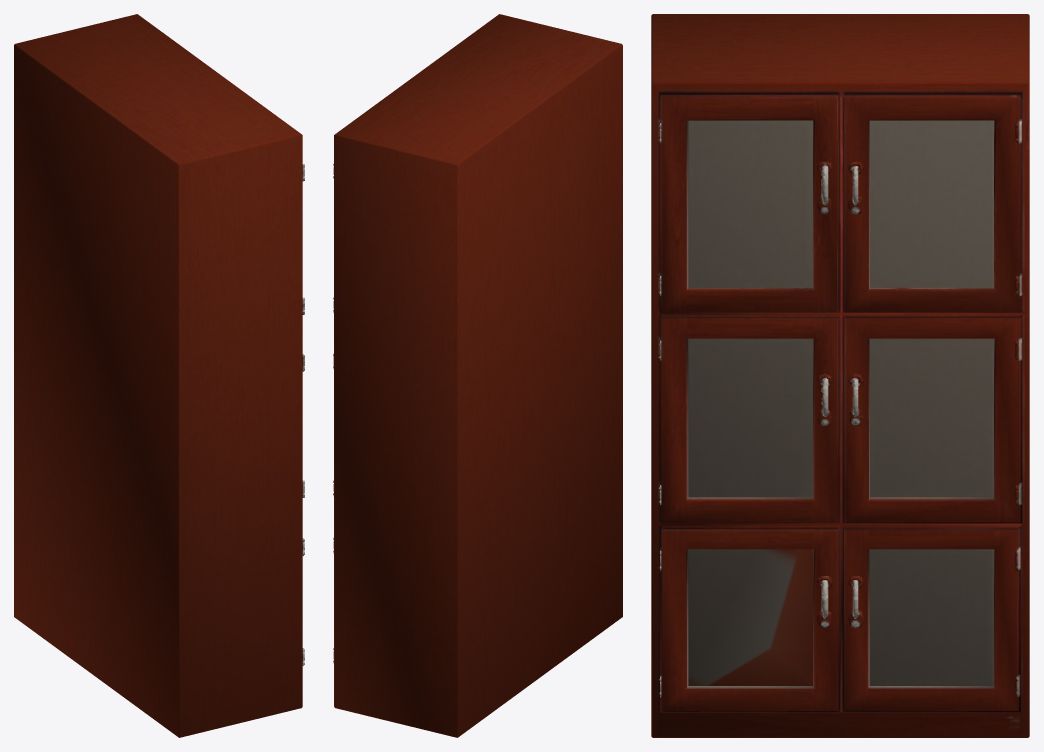
File: tu_2canh.fbx
The picture shows the model from 3 angles, left to right: view 1: azimuth 30°, elevation 25°; view 2: azimuth 150°, elevation 25°; view 3: azimuth 270°, elevation 25°; orthographic projection. The views are drawn at different scales.
Parts seen in each view (by area): view 1: tripo_node_4b7a58a5; view 2: tripo_node_4b7a58a5; view 3: tripo_node_4b7a58a5.
Boxes of the visible parts, <box> form: tripo_node_4b7a58a5: <box>14,14,304,737</box>; tripo_node_4b7a58a5: <box>333,14,622,737</box>; tripo_node_4b7a58a5: <box>651,14,1029,737</box>.
Bounding box in the file's own units: 0.2559 × 0.998 × 0.5215.
